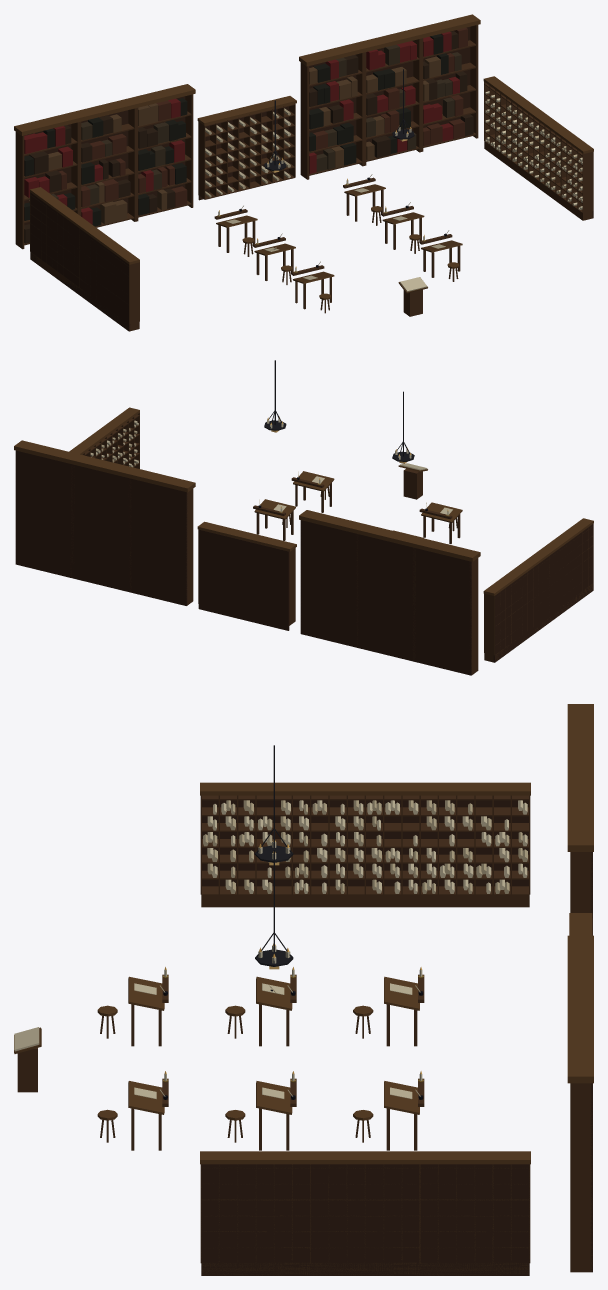
File: scriptorium.glb
3 views of the same model, one above another, from view 1: azimuth 30°, elevation 25°; view 2: azimuth 150°, elevation 25°; view 3: azimuth 270°, elevation 25° (orthographic). The views are drawn at different scales.
Parts seen in each view (by area): view 1: scriptorium; view 2: scriptorium; view 3: scriptorium.
Boxes of the visible parts, left/top/right/bottom form: scriptorium: left=14, top=14, right=593, bottom=331; scriptorium: left=14, top=360, right=593, bottom=675; scriptorium: left=14, top=704, right=593, bottom=1275.
Size of the model in its own units: 19.57 by 7 by 12.71.
